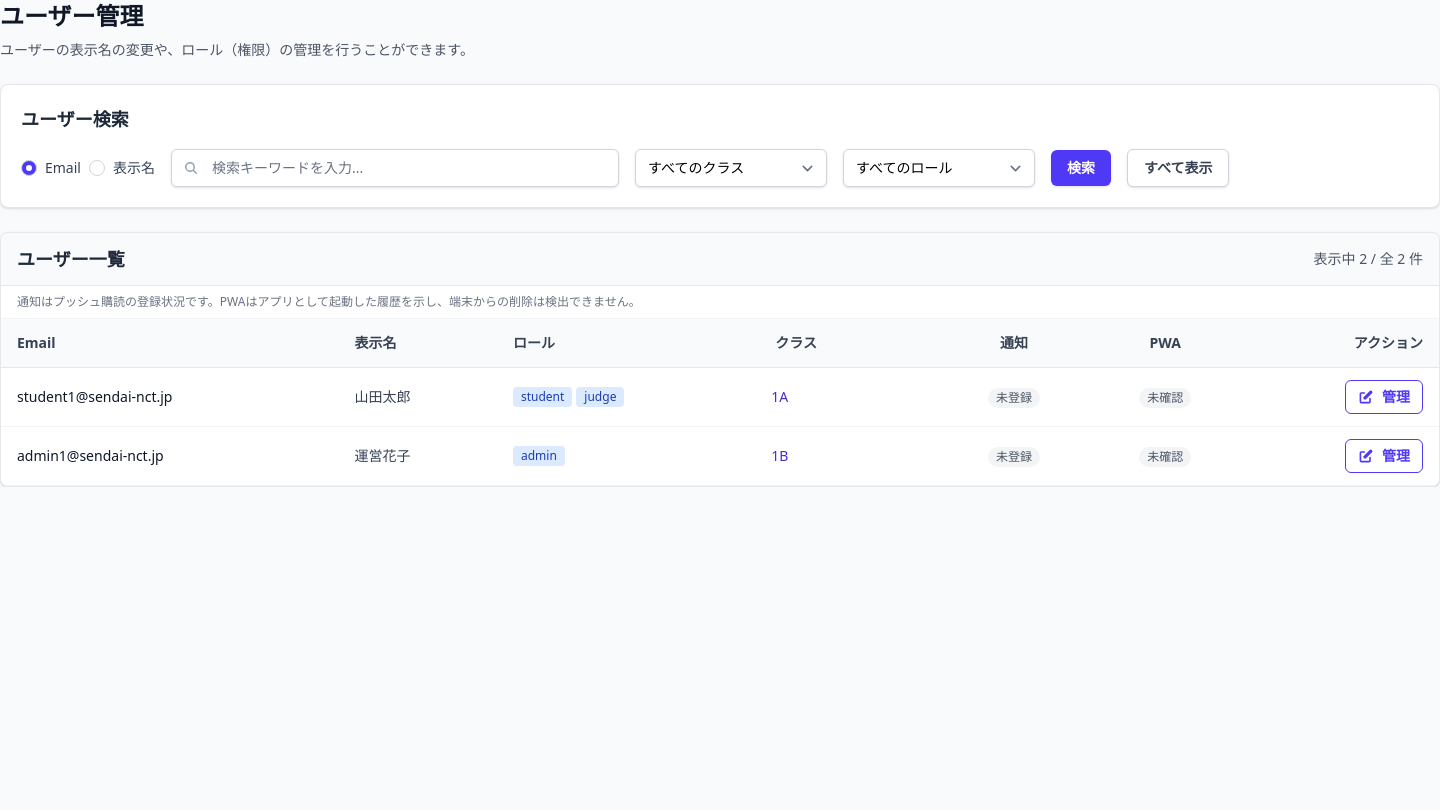
Test: Change Username Page › rootロールに切り替えると表示が更新される
Click the button "管理" in the row of "student1@sendai-nct.jp" at {"x": 1384, "y": 397}, box [1345,380,1423,414]
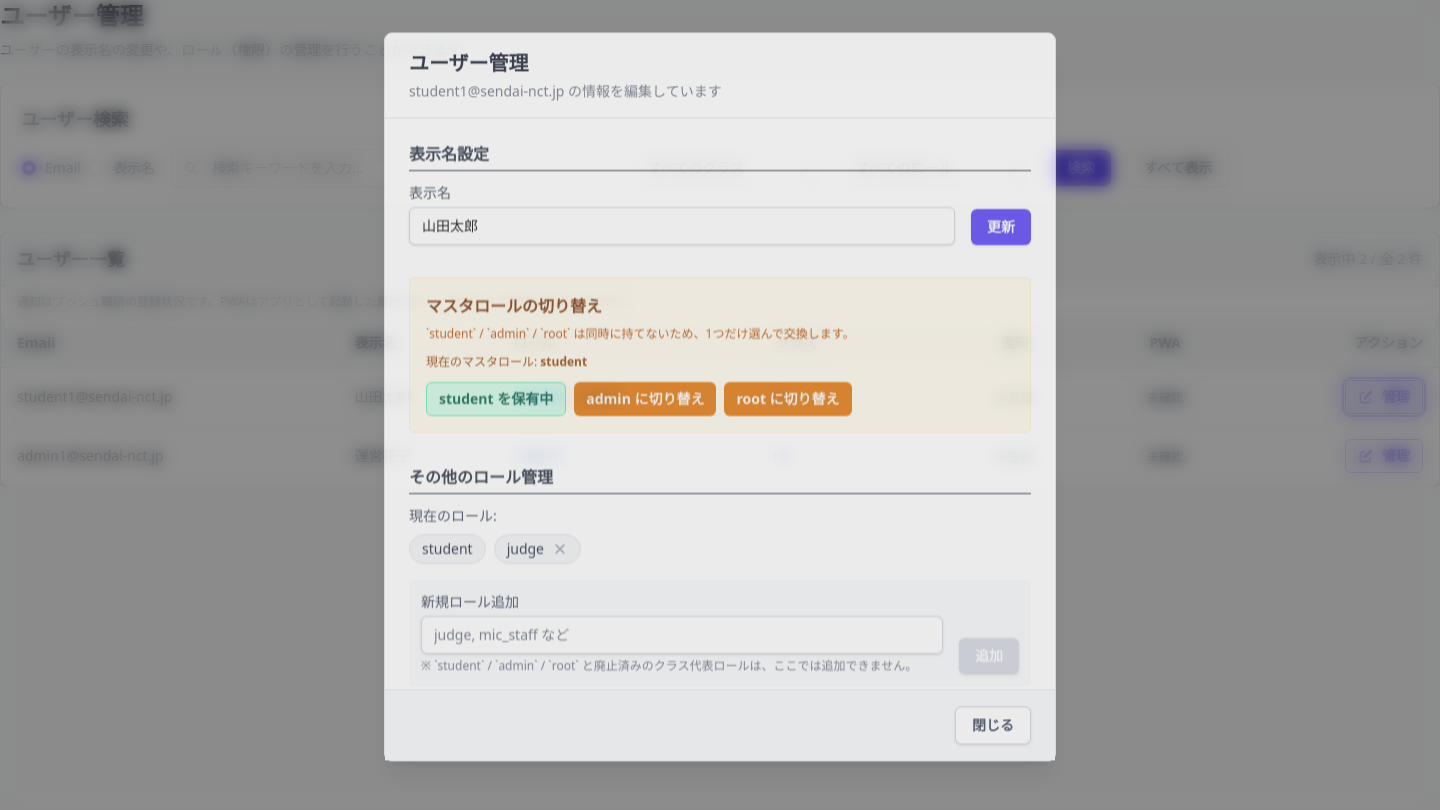
Click the button "root に切り替え" at {"x": 788, "y": 407}, box [724,390,852,424]
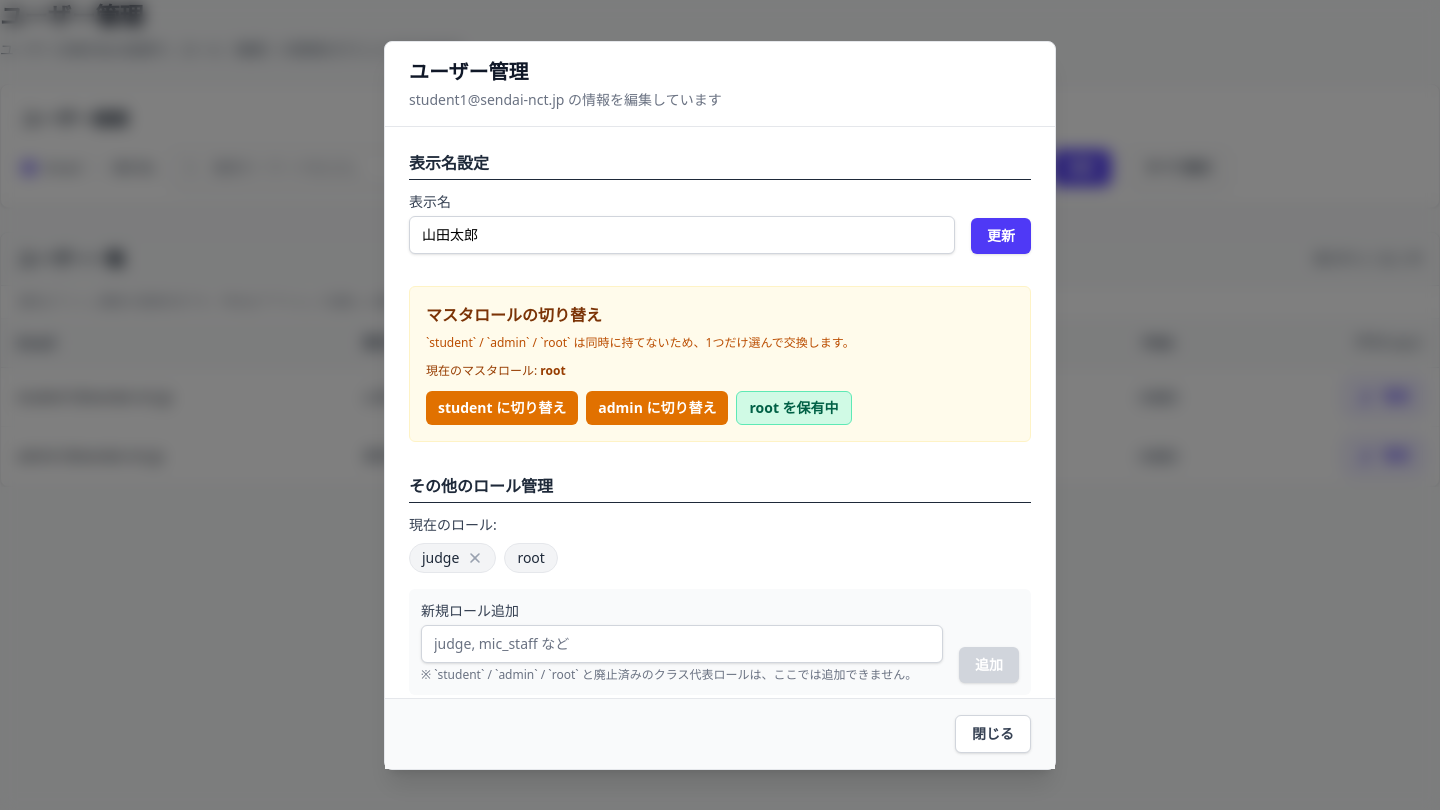
Expected: the row "student1@sendai-nct.jp 山田太郎 judge root 1A 未登録 未確認 管理" is shown, [1,368,1439,426]
